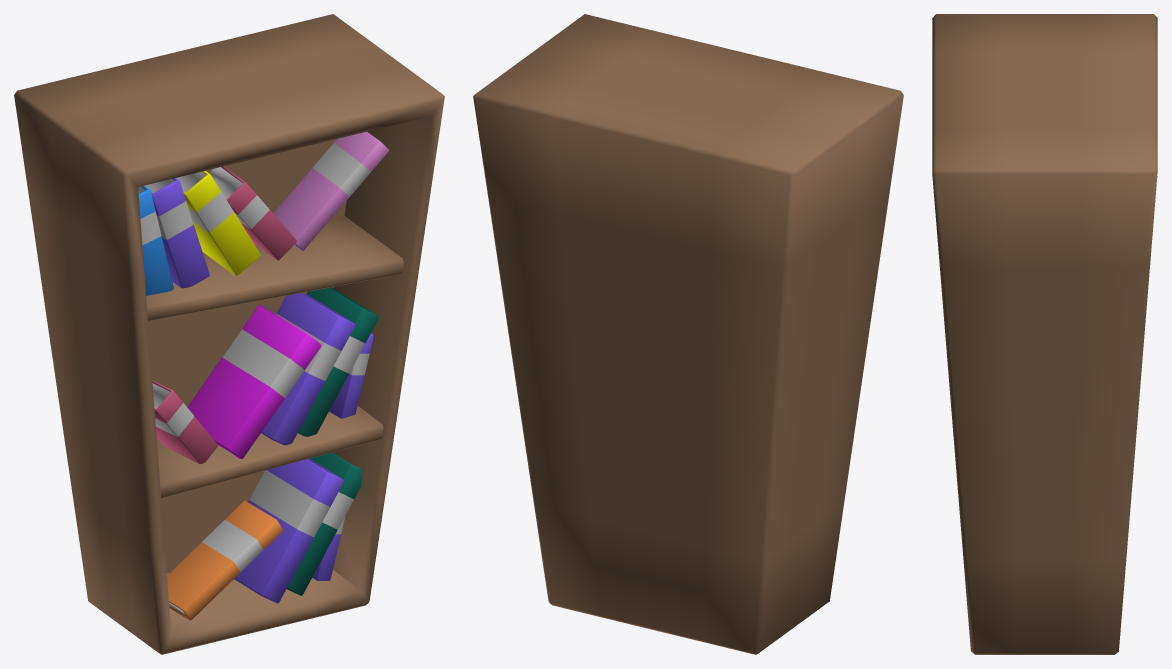
Rendered from props_library_2.fbx.
The picture shows the model from 3 angles, left to right: view 1: azimuth 30°, elevation 25°; view 2: azimuth 150°, elevation 25°; view 3: azimuth 270°, elevation 25°; orthographic projection.
Visible parts, largest first — view 1: Library.015; view 2: Library.015; view 3: Library.015.
Boxes of the visible parts, bbox=[...] form: Library.015: bbox=[14, 14, 444, 654]; Library.015: bbox=[473, 14, 903, 654]; Library.015: bbox=[932, 14, 1157, 654].
Bounding box in the file's own units: 189 × 288 × 114.
